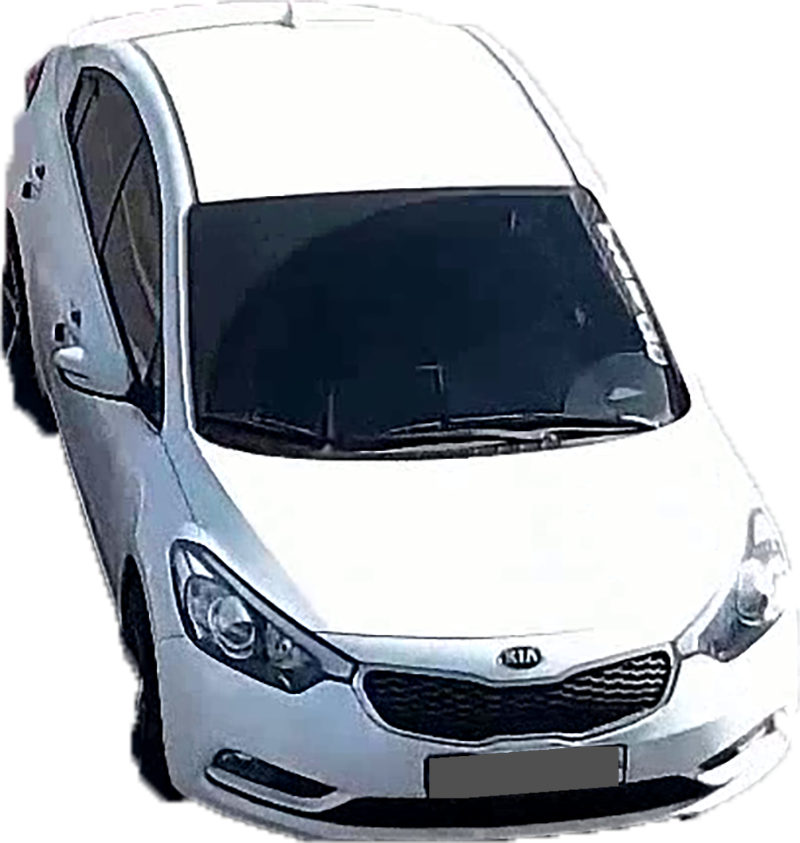P1_: (429, 757, 448, 764)
bbox: (429, 746, 626, 801)
